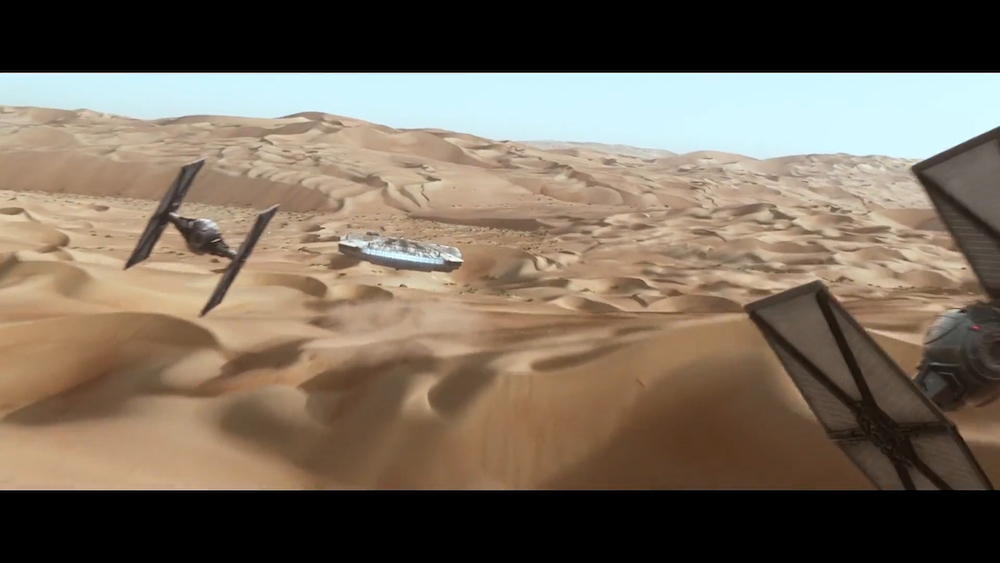Millennium Falcon: (339, 232, 464, 274)
Tie Fighter: (743, 126, 1000, 489), (123, 159, 281, 317)
